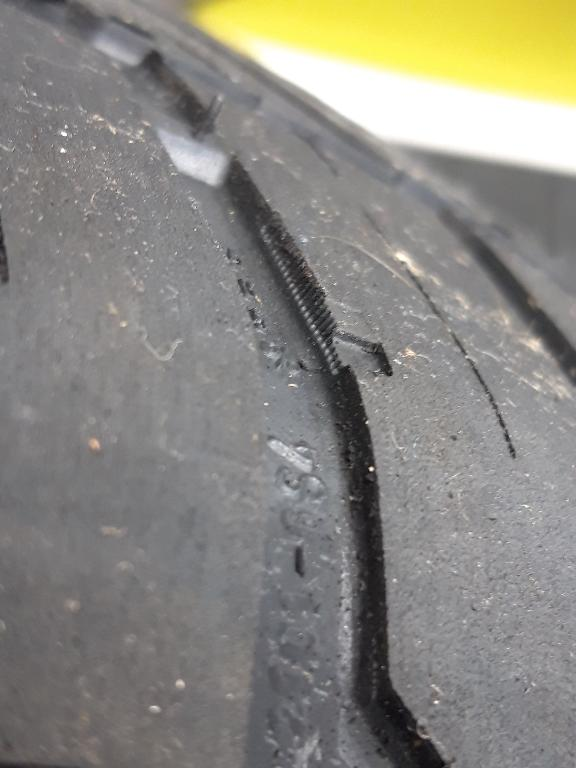temoin:25: (304, 286, 404, 391)
